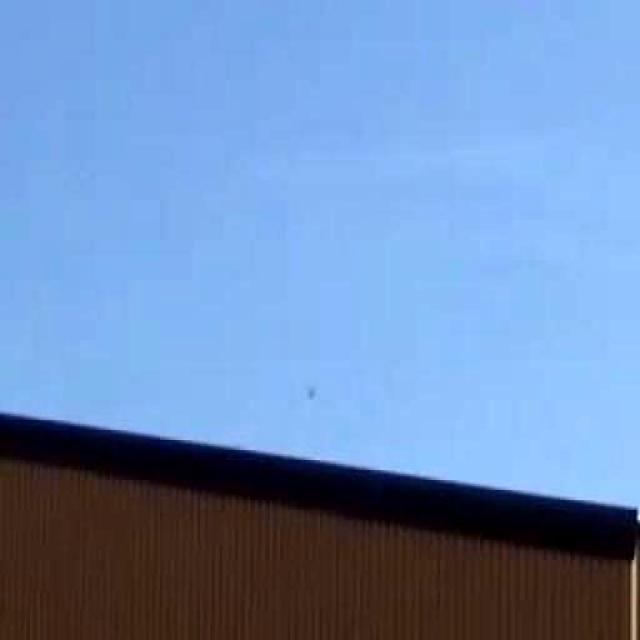drone: (284, 354, 342, 424)
